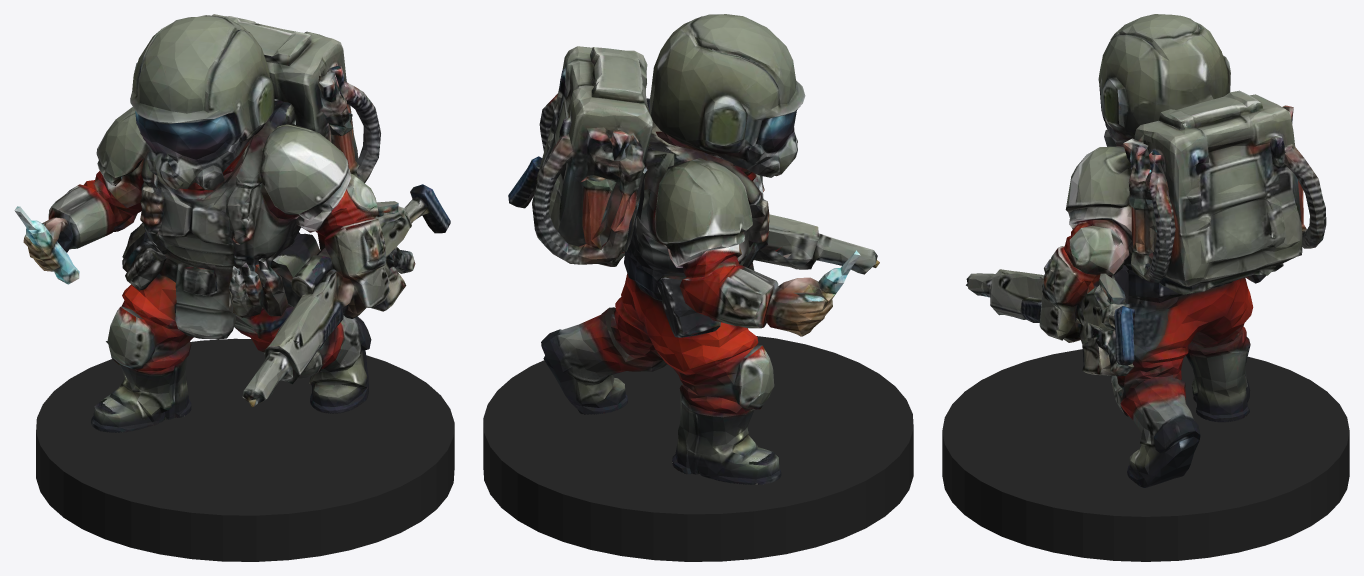
File: ks-combat-medic.glb
3 renders of one model, left to right at view 1: azimuth 30°, elevation 25°; view 2: azimuth 150°, elevation 25°; view 3: azimuth 270°, elevation 25°, orthographic. The views are drawn at different scales.
Parts seen in each view (by area): view 1: figure, base; view 2: figure, base; view 3: figure, base.
Boxes of the visible parts, x1,y1,x2,y2 form: figure: (14, 14, 450, 432); base: (36, 338, 454, 561); figure: (508, 14, 879, 484); base: (483, 336, 913, 561); figure: (966, 14, 1326, 487); base: (942, 349, 1349, 561).
Bounding box in the file's own units: 1.05 × 1.17 × 0.9843.
Materials: 2 (1 with a texture image).
